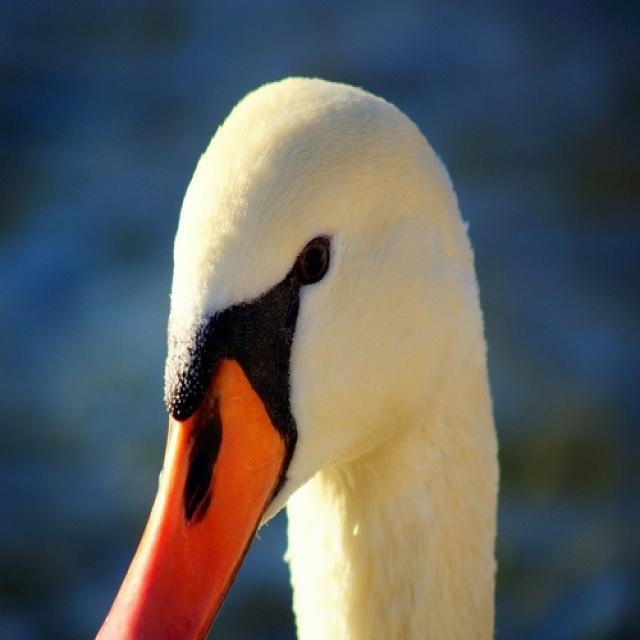bird: (93, 74, 500, 638)
